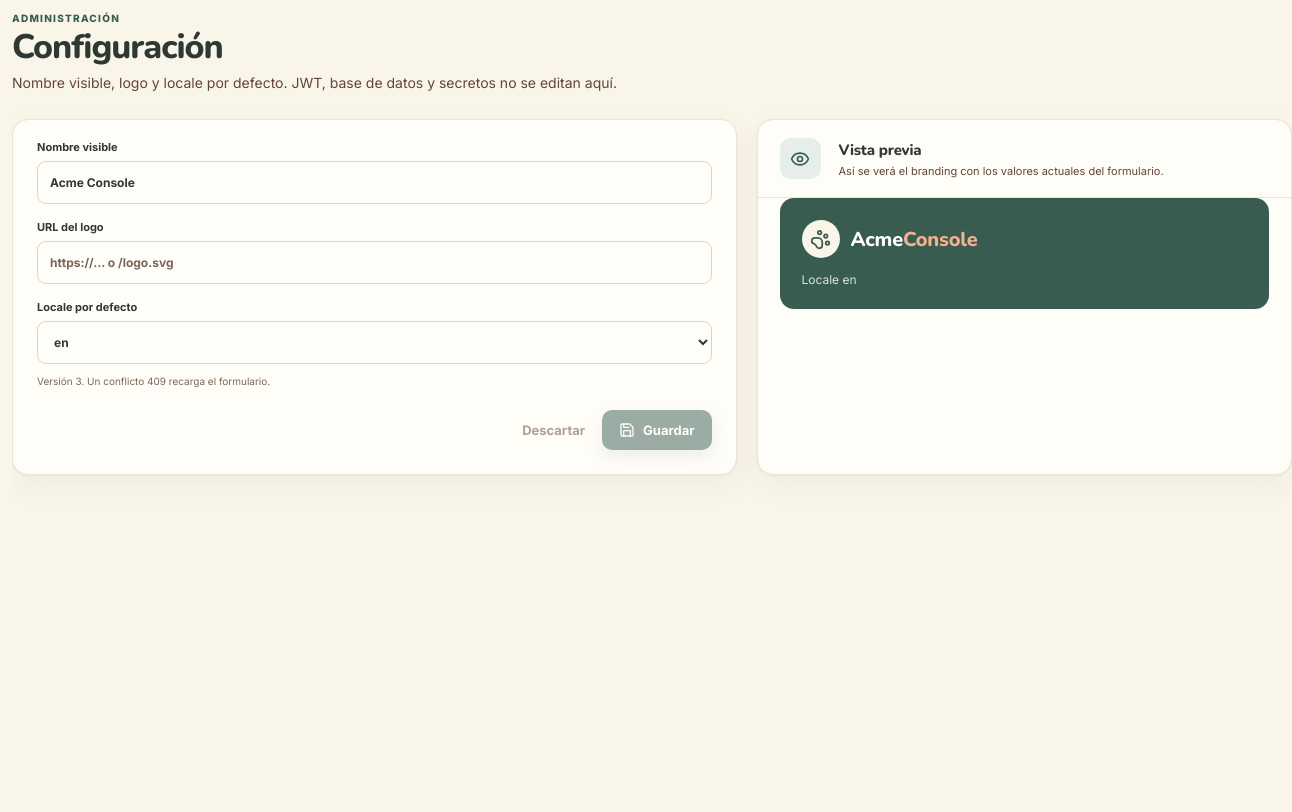
Scenario: GeneralSettingsPage › shows field errors on 422
This screenshot has width=1292, height=812.
Type " X" into the field showing "Acme Console" at (374, 183), box [37,161,712,204]
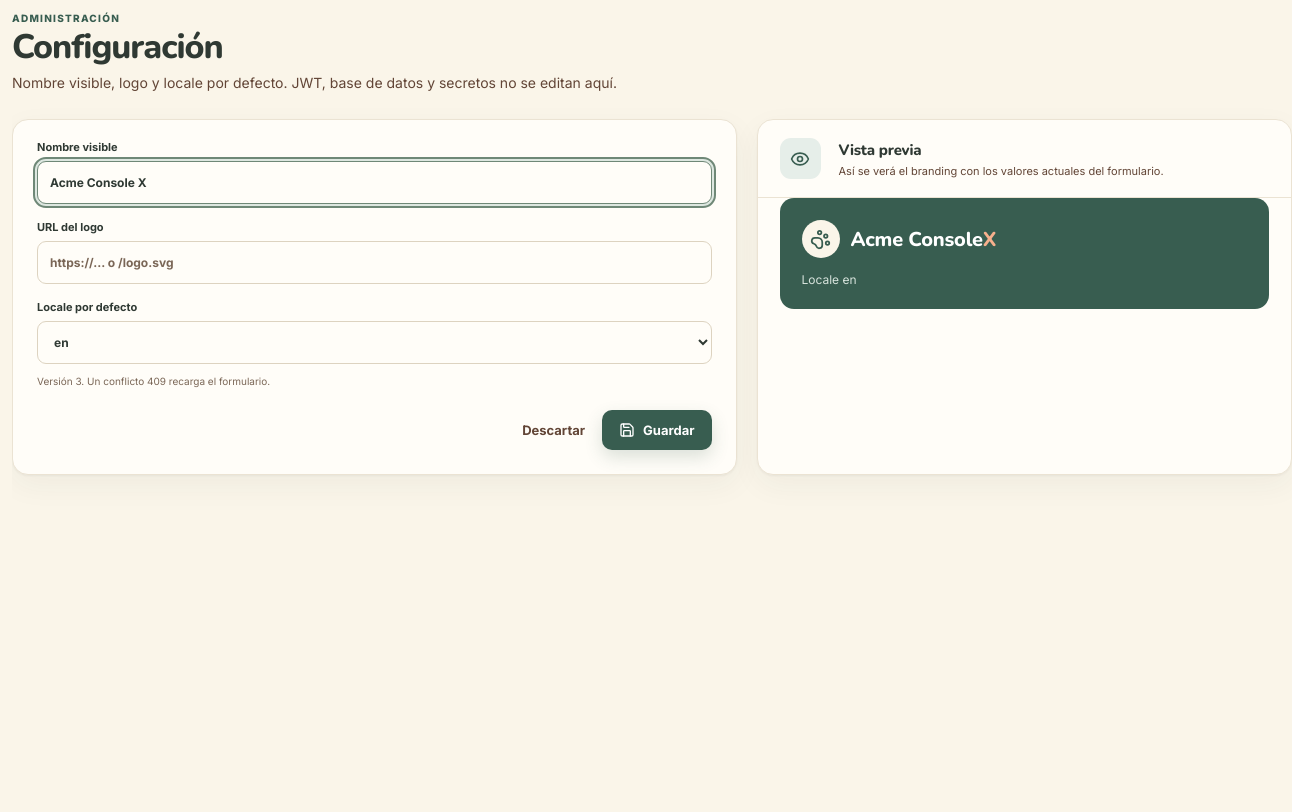
Click the button "Guardar" at (657, 430), box [602,410,712,450]
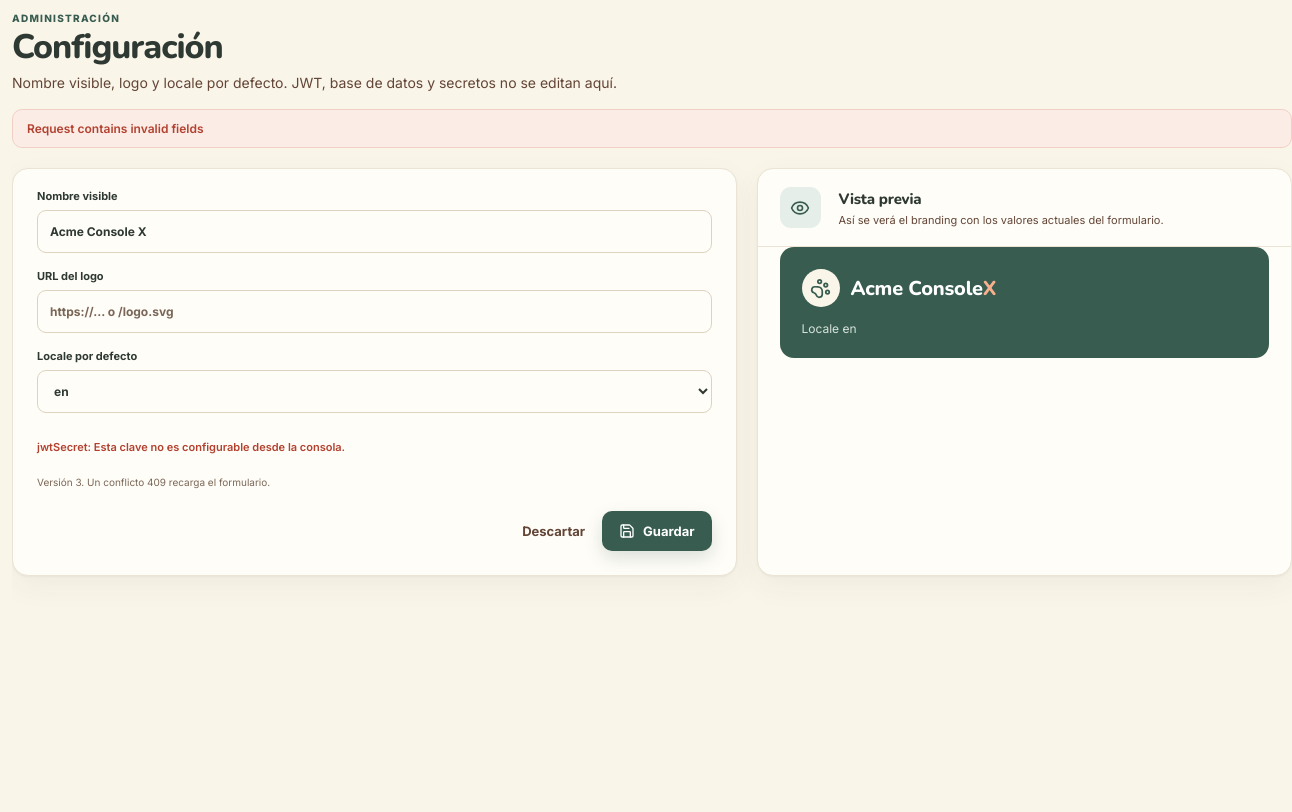
Expected: the text "jwtSecret: Esta clave no es configurable desde la consola." is shown, [37,440,345,454]
